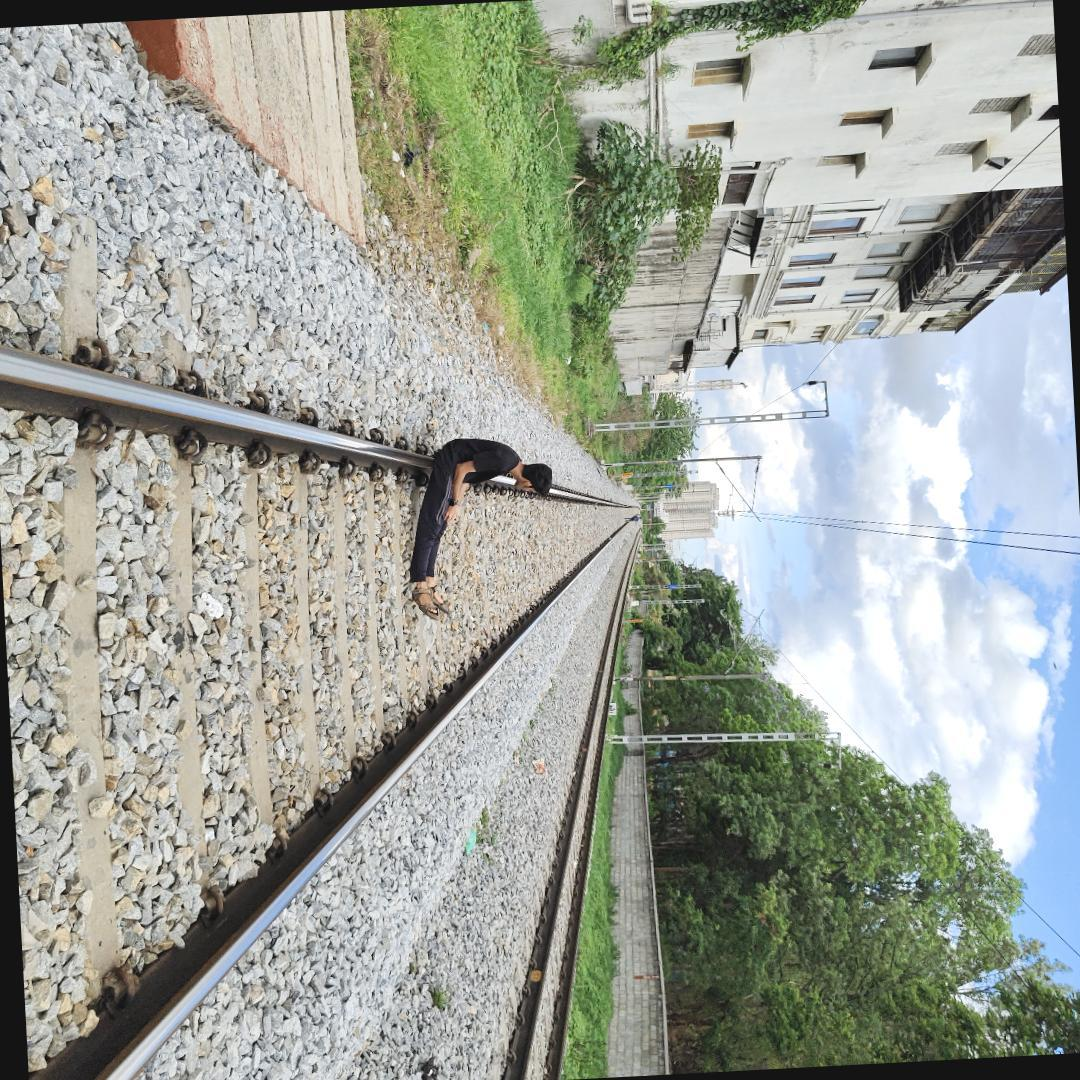sitting: (402, 432, 562, 628)
